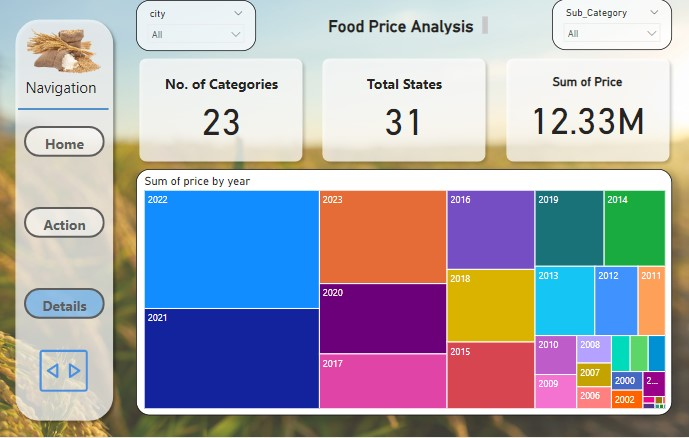

What the dashboard file says about the page in this screenshot:
{"tool":"powerbi","page":{"name":"Page 3","canvas":[1000,634],"ordinal":2},"visuals":[{"type":"shape","box":[15,20,160,600],"z":0},{"type":"actionButton","box":[35.5,184.2,117.1,44.7],"z":1000},{"type":"image","box":[31.4,31.4,128.6,84.3],"z":2000},{"type":"actionButton","box":[35.5,301.3,117.1,44.7],"z":3000},{"type":"actionButton","box":[35.5,418.4,117.1,44.7],"z":4000},{"type":"image","box":[50.7,493,85.9,93],"z":5000},{"type":"shape","box":[28.2,135.2,131,49.3],"z":6000},{"type":"shape","box":[194.7,77.3,254.7,168],"z":7000},{"type":"card","title":"No. of Categories","fields":{"Values":["food_prices_ind.no.of_foodtypes"]},"box":[220,109.3,204,102.7],"z":8000},{"type":"shape","box":[460,77.3,254.7,168],"z":9000},{"type":"card","title":"Total States","fields":{"Values":["food_prices_ind.Total_States"]},"box":[484,109.3,206.7,102.7],"z":10000},{"type":"shape","box":[726.7,77.3,254.7,168],"z":11000},{"type":"treemap","fields":{"Values":["Sum(food_prices_ind.price)"],"Group":["food_prices_ind.year"]},"box":[198.6,245.7,777.1,357.1],"z":12000},{"type":"card","title":"Sum of Price","fields":{"Values":["Sum(food_prices_ind.Retail_price)"]},"box":[754.3,108.6,198.6,101.4],"z":13000},{"type":"slicer","fields":{"Values":["food_prices_ind.commodity"]},"box":[801.4,0,174.3,74.3],"z":14000},{"type":"slicer","fields":{"Values":["food_prices_ind.city"]},"box":[198.6,1.4,174.3,74.3],"z":15000},{"type":"textbox","box":[33.3,108,122.7,42.7],"z":16000},{"type":"textbox","box":[460,20,254.3,35.7],"z":17000}]}

Visuals, with their boxes in screenshot pixels (x1, y1, x2, y2), scaled from the page's 1000x634 canvas onto the 689x438 screenshot:
shape: box=[10, 14, 121, 428]
actionButton: box=[24, 127, 105, 158]
image: box=[22, 22, 110, 80]
actionButton: box=[24, 208, 105, 239]
actionButton: box=[24, 289, 105, 320]
image: box=[35, 341, 94, 405]
shape: box=[19, 93, 110, 127]
shape: box=[134, 53, 310, 169]
"No. of Categories" card: box=[152, 76, 292, 146]
shape: box=[317, 53, 492, 169]
"Total States" card: box=[333, 76, 476, 146]
shape: box=[501, 53, 676, 169]
treemap - Sum(food_prices_ind.price) x food_prices_ind.year: box=[137, 170, 672, 416]
"Sum of Price" card: box=[520, 75, 657, 145]
slicer - food_prices_ind.commodity: box=[552, 0, 672, 51]
slicer - food_prices_ind.city: box=[137, 1, 257, 52]
textbox: box=[23, 75, 107, 104]
textbox: box=[317, 14, 492, 38]
